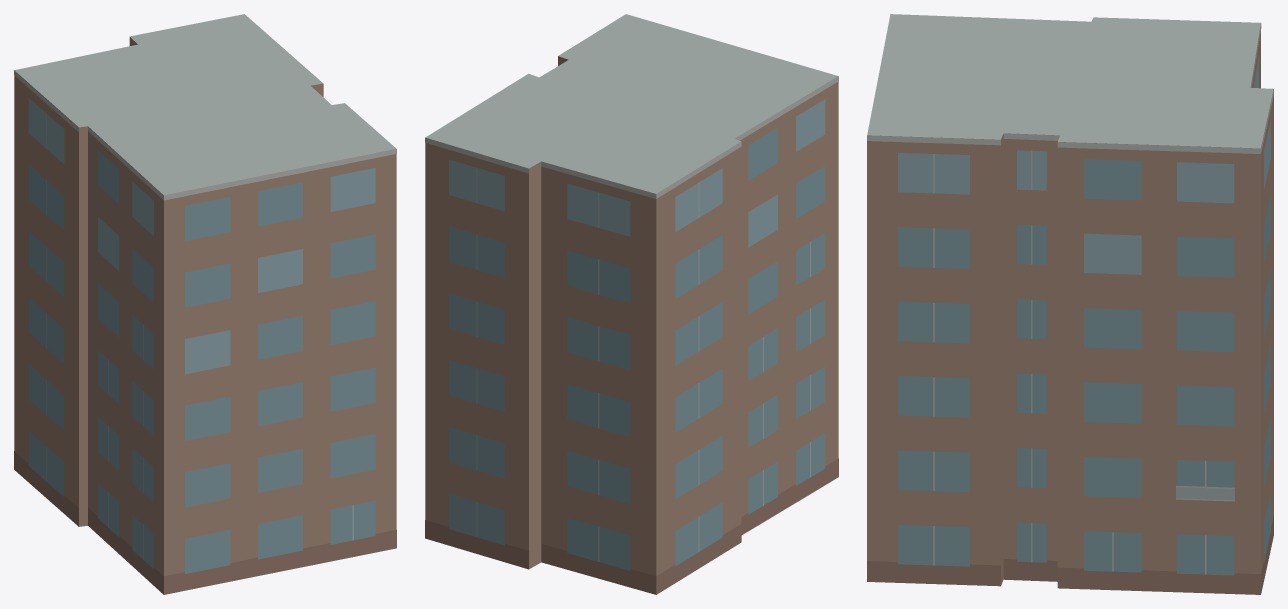
The model's file is survey-upis-32542783.glb.
3 renders of one model, left to right at view 1: azimuth 30°, elevation 25°; view 2: azimuth 150°, elevation 25°; view 3: azimuth 270°, elevation 25°, orthographic. The views are drawn at different scales.
Parts seen in each view (by area): view 1: survey-upis-32542783.tmp; view 2: survey-upis-32542783.tmp; view 3: survey-upis-32542783.tmp.
Part boxes in pixels (box(x1,y1,x2,y2)): survey-upis-32542783.tmp: box(14, 14, 396, 594); survey-upis-32542783.tmp: box(425, 14, 838, 594); survey-upis-32542783.tmp: box(867, 14, 1273, 594).
Bounding box in the file's own units: 12.4 × 19.2 × 15.86.
